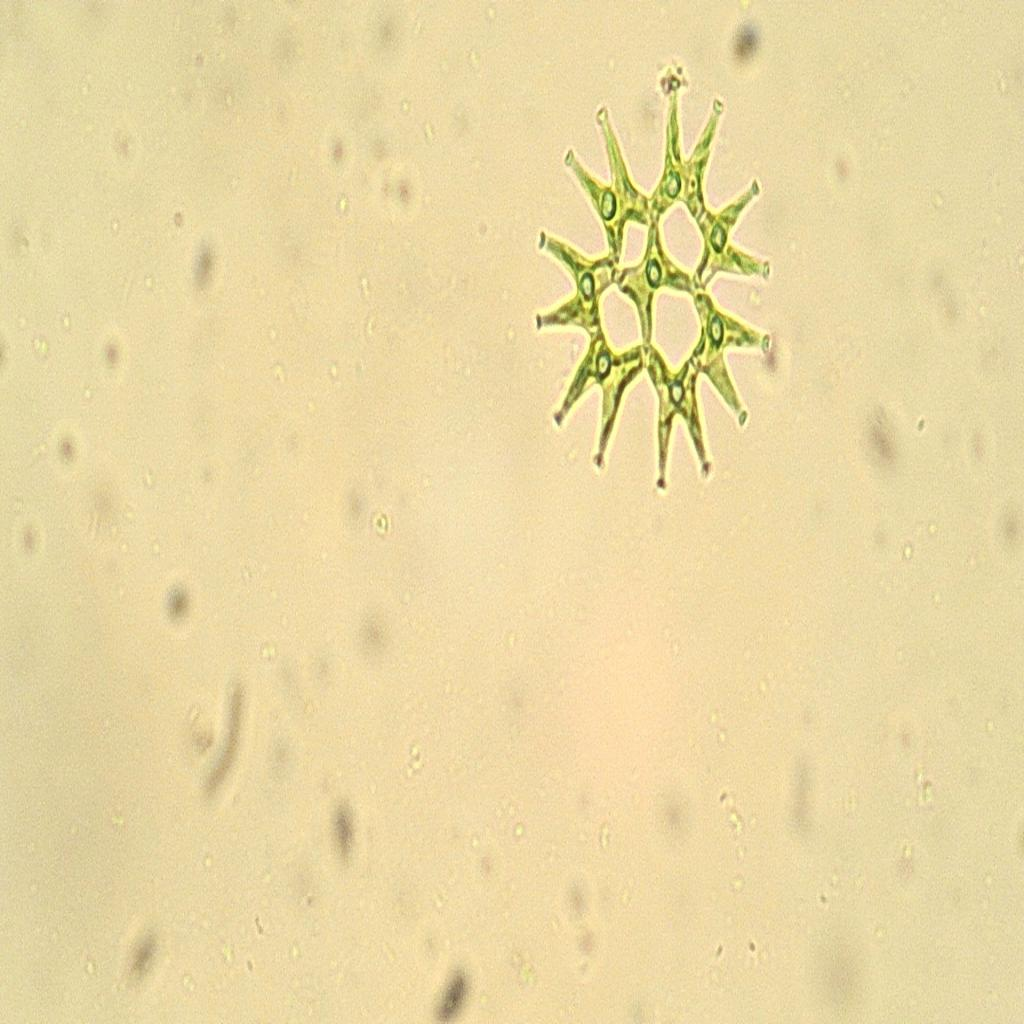Pediastrum_CTH: (528, 62, 790, 497)
